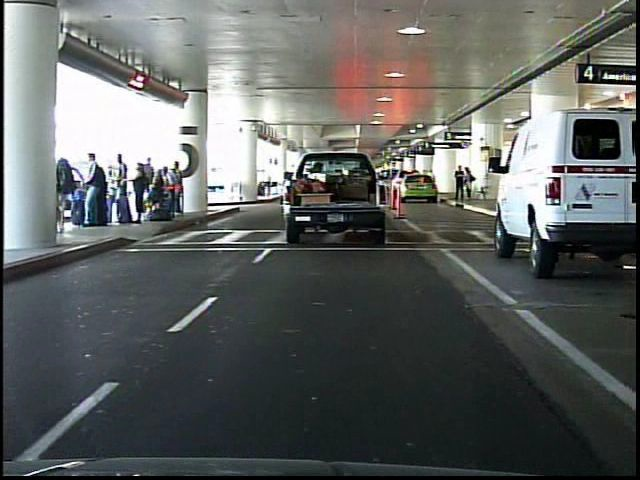person: (464, 165, 477, 203), (453, 165, 466, 202)
